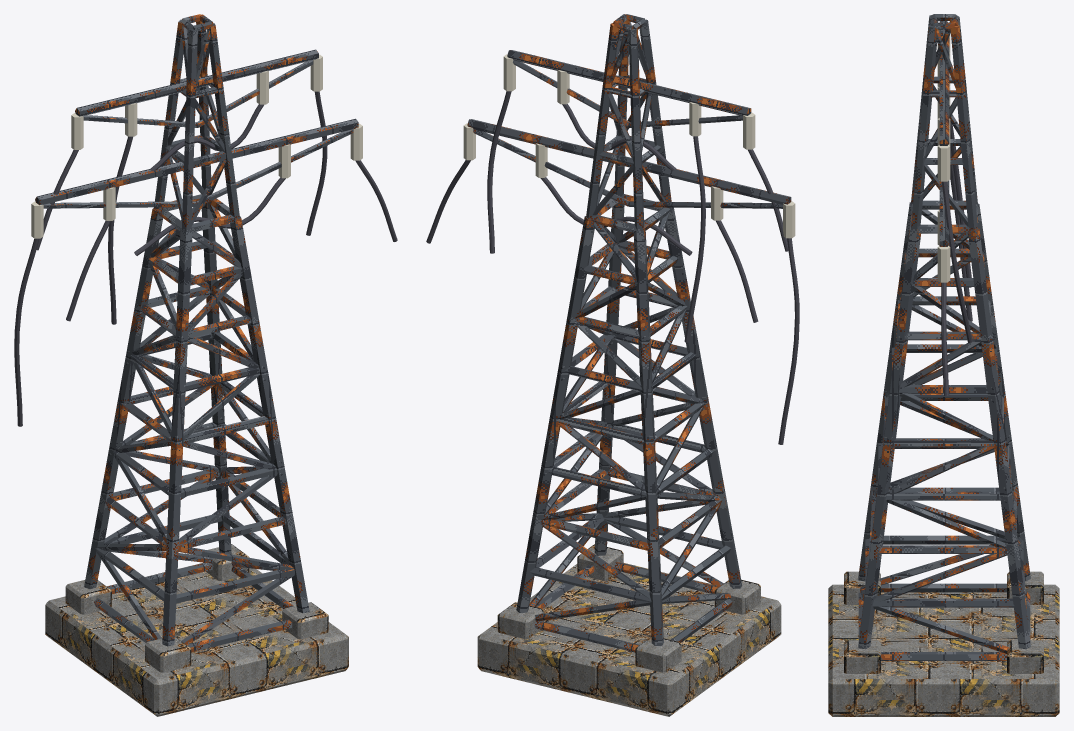
File: storm_tower.glb
The picture shows the model from 3 angles, left to right: view 1: azimuth 30°, elevation 25°; view 2: azimuth 150°, elevation 25°; view 3: azimuth 270°, elevation 25°; orthographic projection. The views are drawn at different scales.
Parts seen in each view (by area): view 1: Lattice, Footing, Cables, Insulators, Plinth, Plinth.002, Plinth.001, Plinth.003; view 2: Lattice, Footing, Cables, Insulators, Plinth.001, Plinth.003, Plinth, Plinth.002; view 3: Lattice, Footing, Cables, Insulators, Plinth.002, Plinth.003, Plinth.001, Plinth.
Boxes of the visible parts, box(x1,y1,x2,y2) form: Lattice: box(35, 14, 358, 652); Footing: box(45, 563, 348, 716); Cables: box(14, 91, 397, 426); Insulators: box(31, 54, 362, 238); Plinth: box(145, 636, 191, 672); Plinth.002: box(282, 602, 328, 639); Plinth.001: box(65, 580, 111, 614); Plinth.003: box(203, 544, 249, 581); Lattice: box(467, 14, 791, 652); Footing: box(477, 563, 781, 716); Cables: box(426, 91, 799, 444); Insulators: box(463, 54, 795, 238); Plinth.001: box(635, 637, 681, 672); Plinth.003: box(497, 602, 544, 639); Plinth: box(714, 579, 760, 614); Plinth.002: box(577, 544, 623, 580); Lattice: box(858, 14, 1030, 660); Footing: box(828, 584, 1059, 716); Cables: box(941, 105, 972, 395); Insulators: box(937, 29, 950, 282); Plinth.002: box(844, 640, 880, 673); Plinth.003: box(1007, 640, 1043, 673); Plinth.001: box(1007, 571, 1043, 604); Plinth: box(844, 571, 880, 604).
Size of the model in its own units: 8.51 by 13.67 by 4.4.
4 materials, 2 textured.
